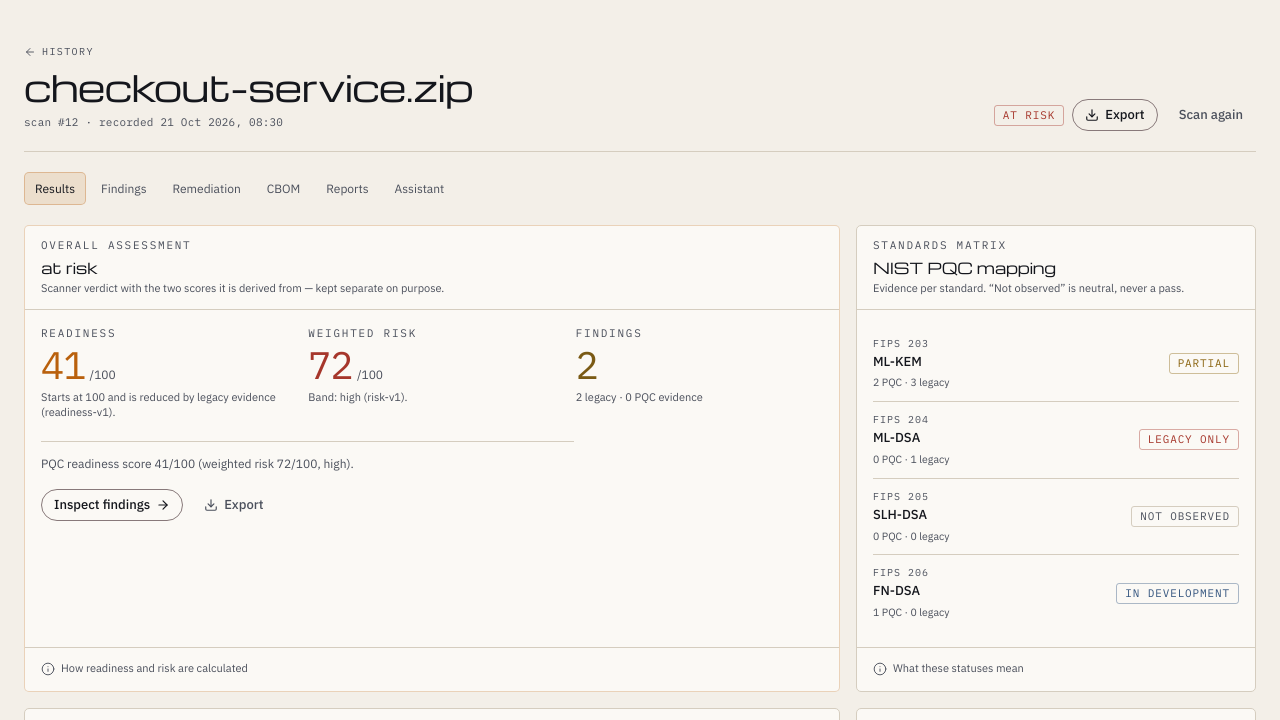
Scenario: ScanResultsPage › explains a standard from the matrix, including detection counts
Click the button "FIPS 203 ML-KEM 2 PQC · 3 legacy partial" at (901, 343), box [873,326,1239,401]
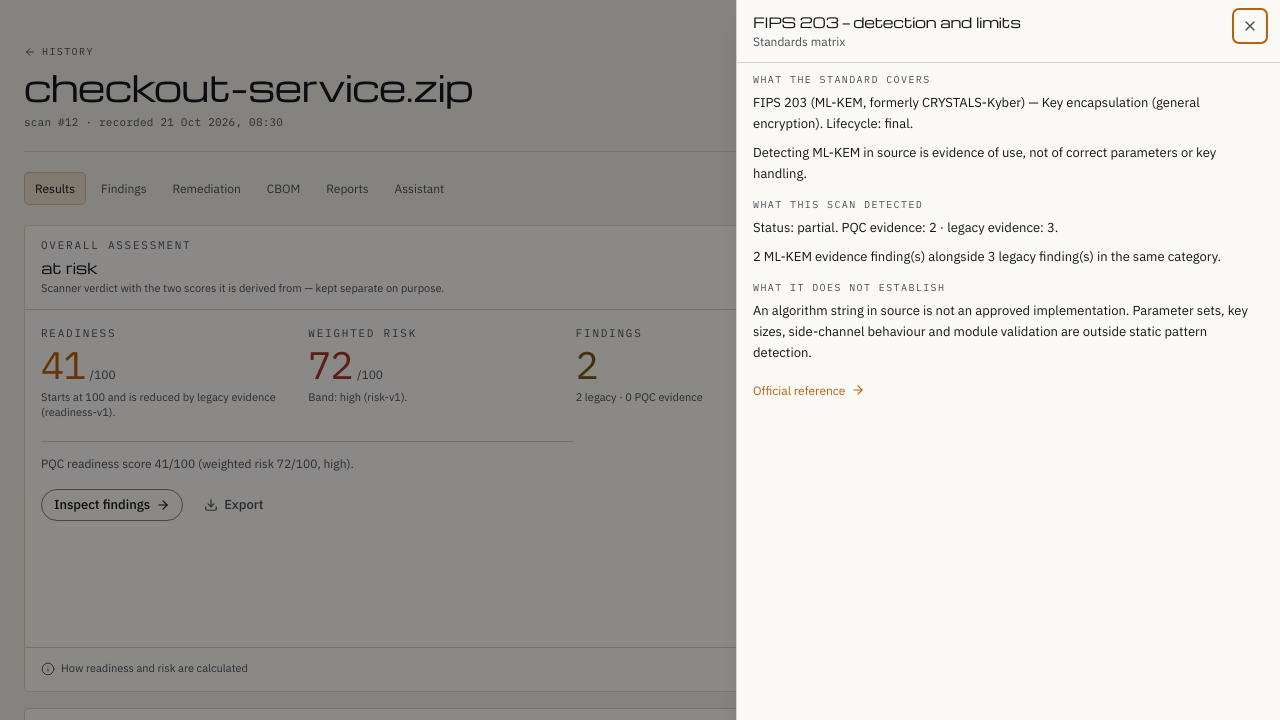
Check: the text "2 ML-KEM evidence" is shown, box [753,248,1221,265]
Check: the text "not an approved implementation" is shown, box [753,302,1248,361]
